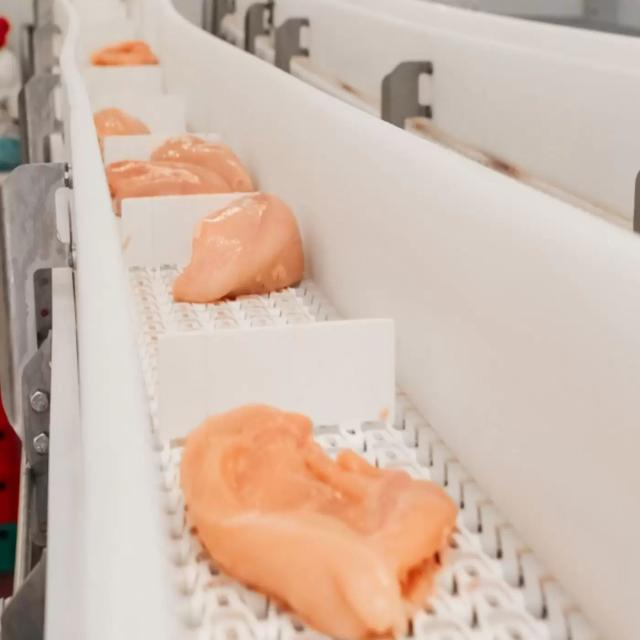food: (178, 402, 459, 639), (170, 190, 306, 304)
